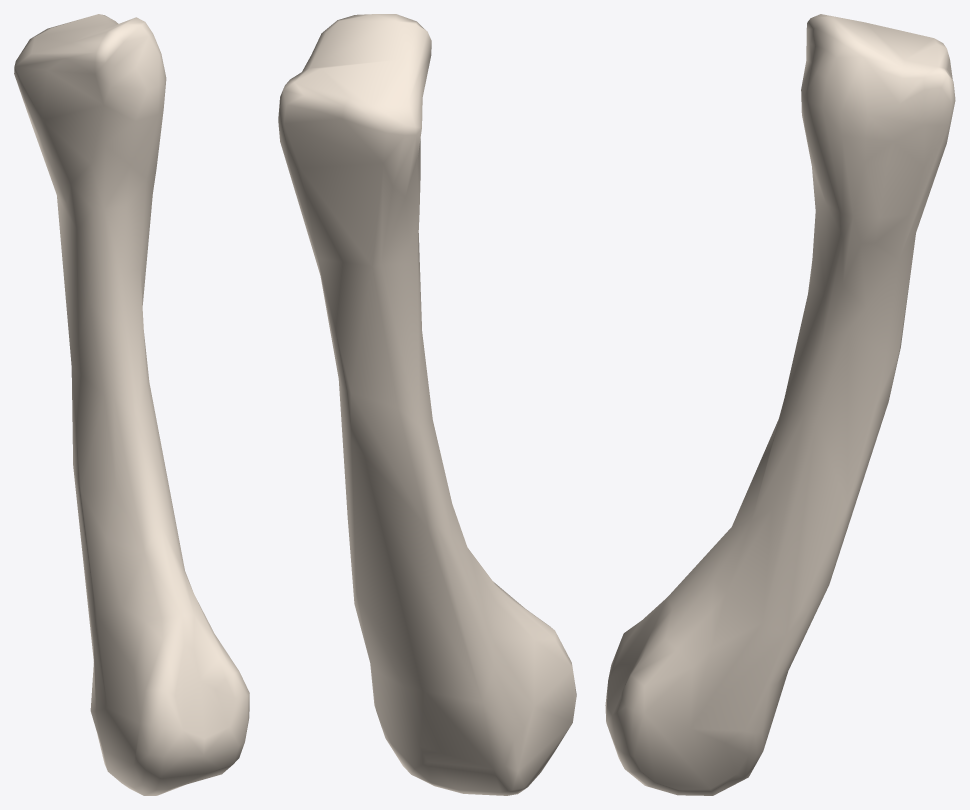
File: left_metacarpal_4.glb
3 views of the same model, side by side, from view 1: azimuth 30°, elevation 25°; view 2: azimuth 150°, elevation 25°; view 3: azimuth 270°, elevation 25° (orthographic). The views are drawn at different scales.
Parts seen in each view (by area): view 1: 4th metacarpal bone.r; view 2: 4th metacarpal bone.r; view 3: 4th metacarpal bone.r.
Boxes of the visible parts, box(x1,y1,x2,y2) form: 4th metacarpal bone.r: box(14, 14, 249, 795); 4th metacarpal bone.r: box(278, 14, 576, 795); 4th metacarpal bone.r: box(605, 14, 955, 795).
Bounding box in the file's own units: 0.0116 × 0.0617 × 0.0252.
